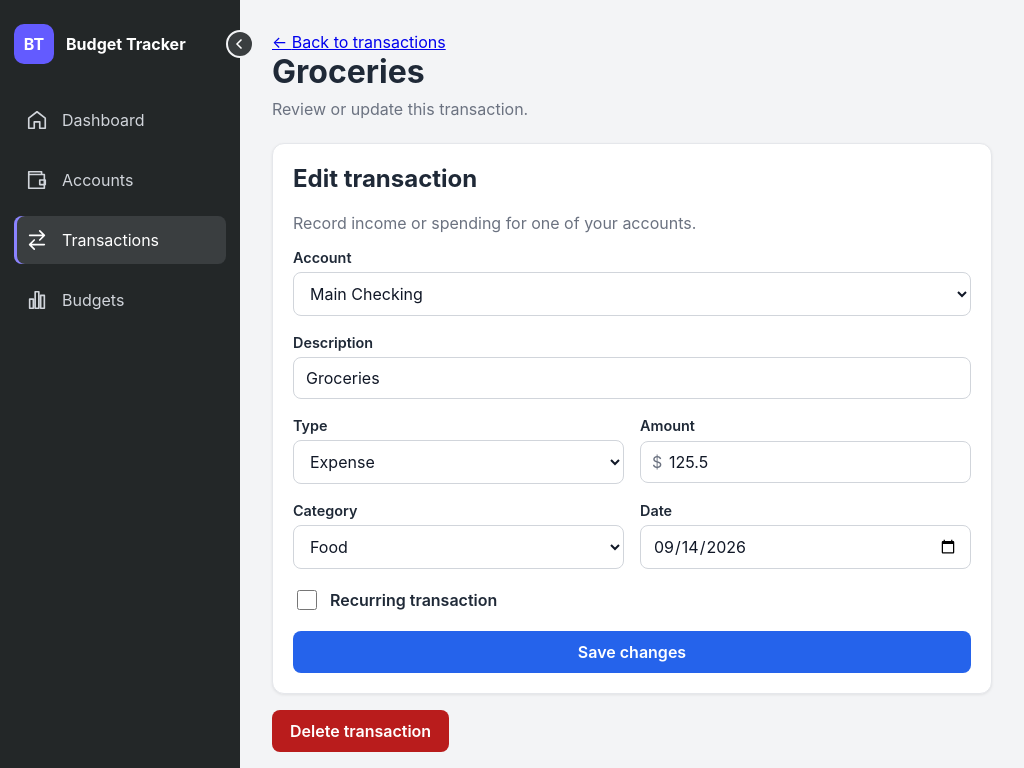
Test case: falls back to transaction history when transaction details are opened directly
Click the button "Save changes": click(632, 652) [293,631,971,673]
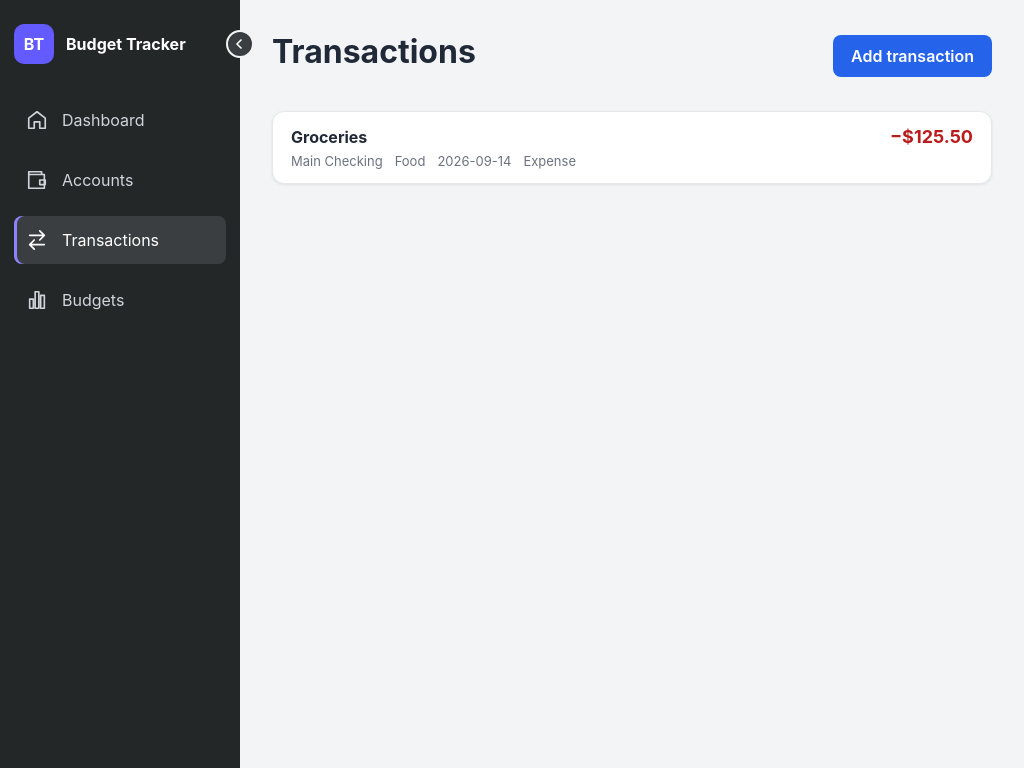
Now the heading "Transactions" is shown, box [272,32,476,71]
